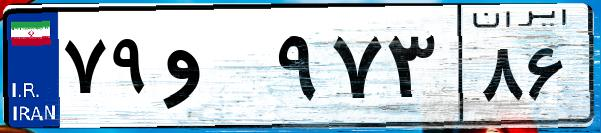3: (385, 28, 445, 110)
6: (525, 38, 570, 115)
7: (330, 28, 385, 110), (57, 26, 110, 100)
8: (475, 38, 525, 113)
9: (270, 28, 330, 110), (110, 28, 158, 98)
و: (158, 20, 270, 120)
